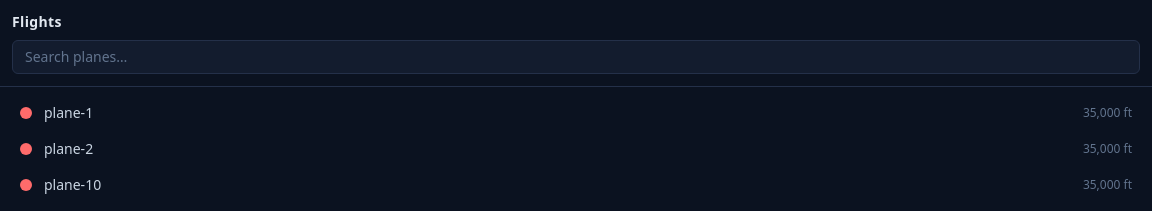
Test: PlaneList › filters planes by the search text
This screenshot has width=1152, height=211.
Type "10" into the search field labelled "Search planes" at (576, 57), box [12,40,1140,74]
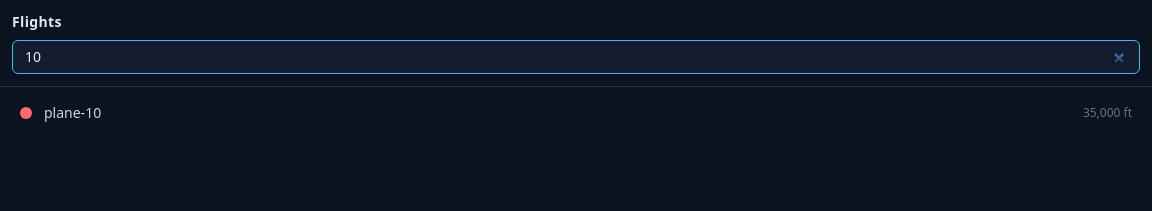
Expected: the text "plane-10" is shown, [44,103,101,122]
Expected: the number of buttons is 1, [8,95,1144,131]
